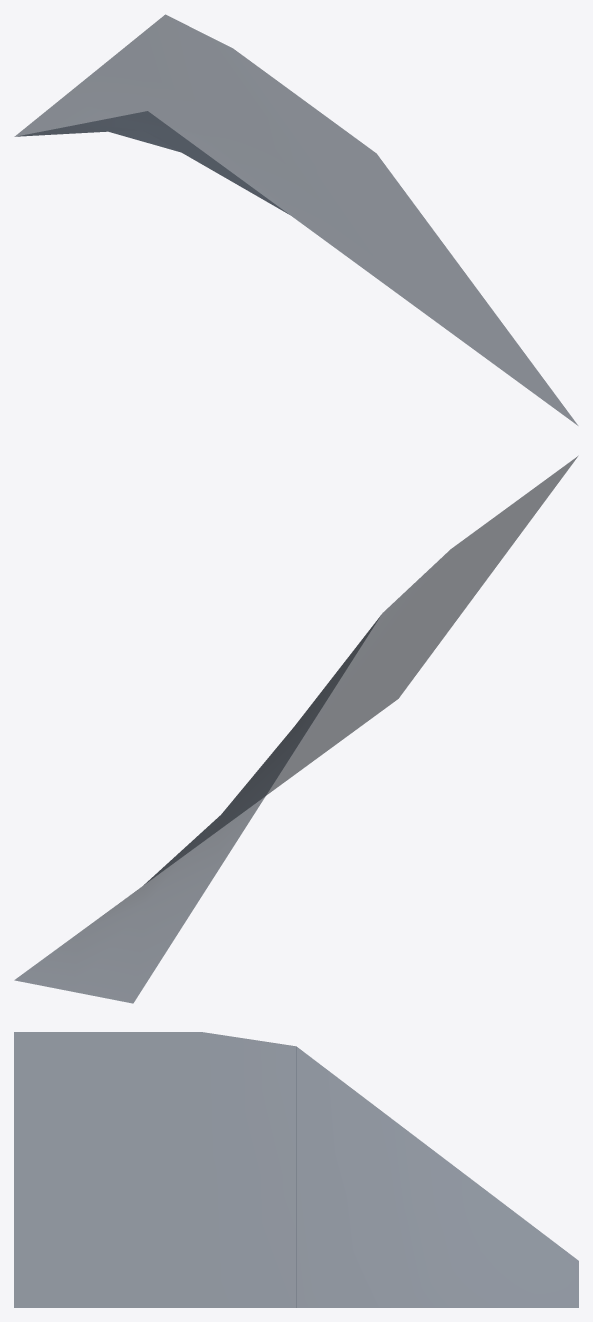
The model's file is GEO_SideWindow_FL.glb.
The picture shows the model from 3 angles, top to bottom: view 1: azimuth 30°, elevation 25°; view 2: azimuth 150°, elevation 25°; view 3: azimuth 270°, elevation 25°; orthographic projection. The views are drawn at different scales.
Parts seen in each view (by area): view 1: GEO_SideWindow_FL; view 2: GEO_SideWindow_FL; view 3: GEO_SideWindow_FL.
Part boxes in pixels (x1,y1,x2,y2): GEO_SideWindow_FL: (14,14,577,425); GEO_SideWindow_FL: (14,456,577,1003); GEO_SideWindow_FL: (14,1032,578,1307).
Size of the model in its own units: 0.325 by 0.495 by 1.2.
